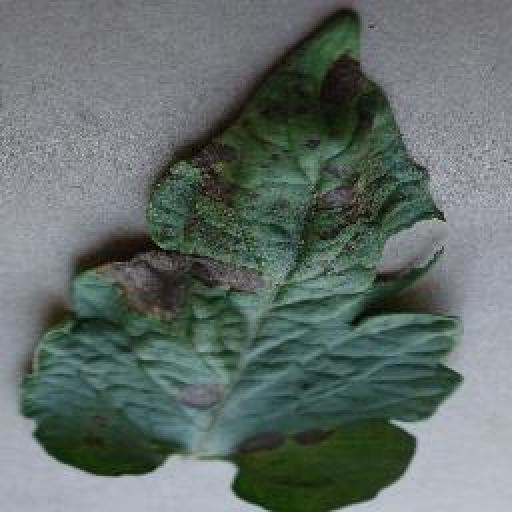Early Blight: (22, 9, 465, 512)
